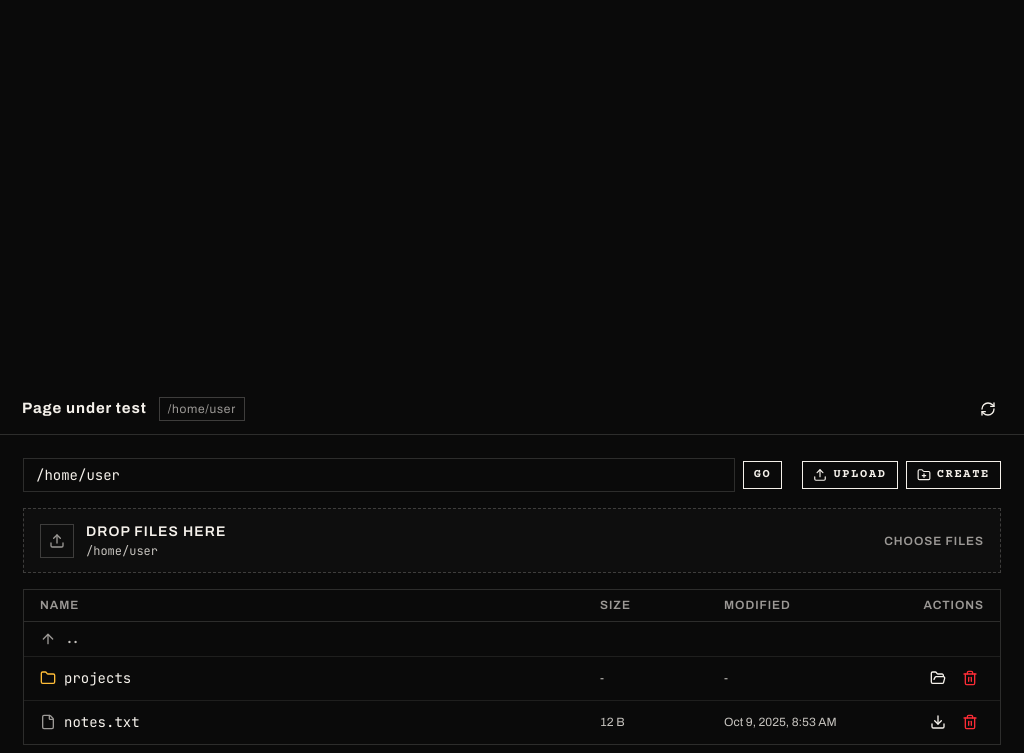
Test: files › makes a folder in the current directory and refuses path tricks
(page scrolled)
Expected: the row with test id "file-notes.txt" is shown, [24,700,1000,744]
Click the button "Create".
click(953, 475)  # box [906,461,1001,489]
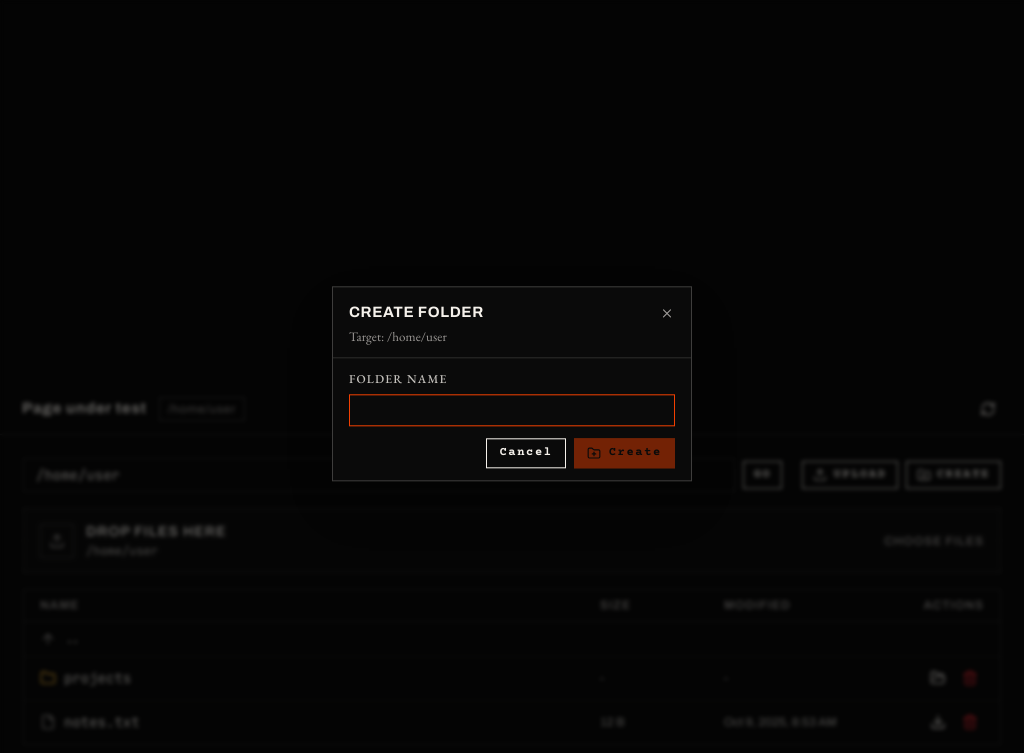
Expected: the text "Target: /home/user" is shown, [349,328,447,345]
Type "../escape" into the field labelled "Folder name".
click(512, 411); type("../escape")  # box [349,395,675,427]
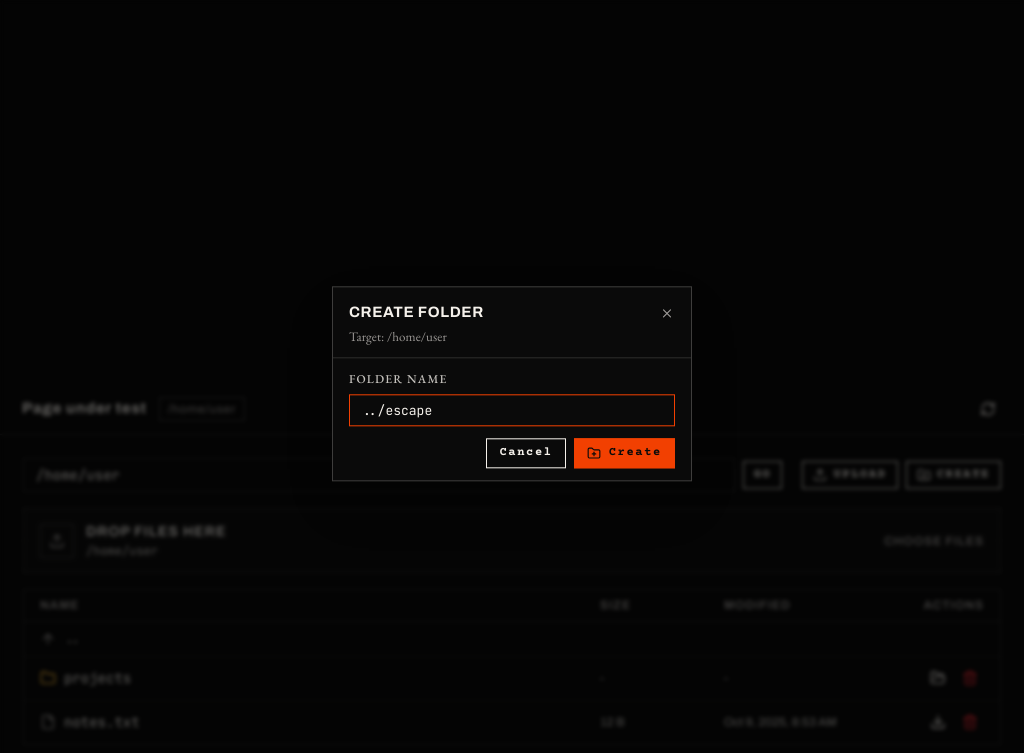
Click the button "Create".
click(624, 454)  # box [574,439,675,469]
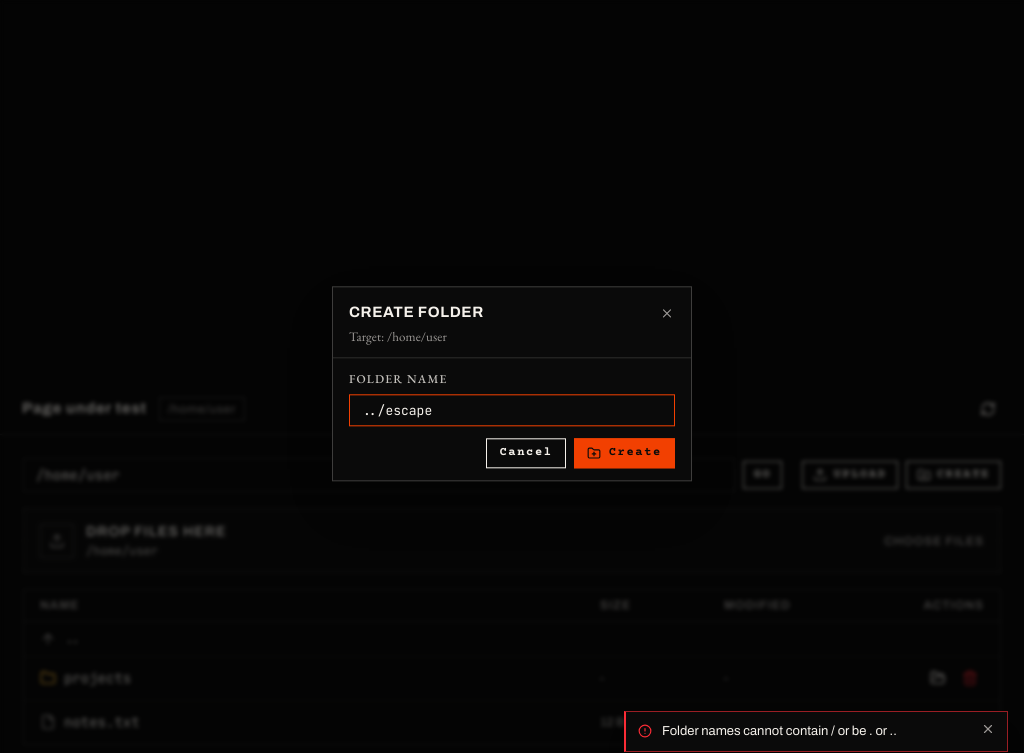
Replace the text in the field labelled "Folder name" with "drafts" at (512, 411), box [349,395,675,427]
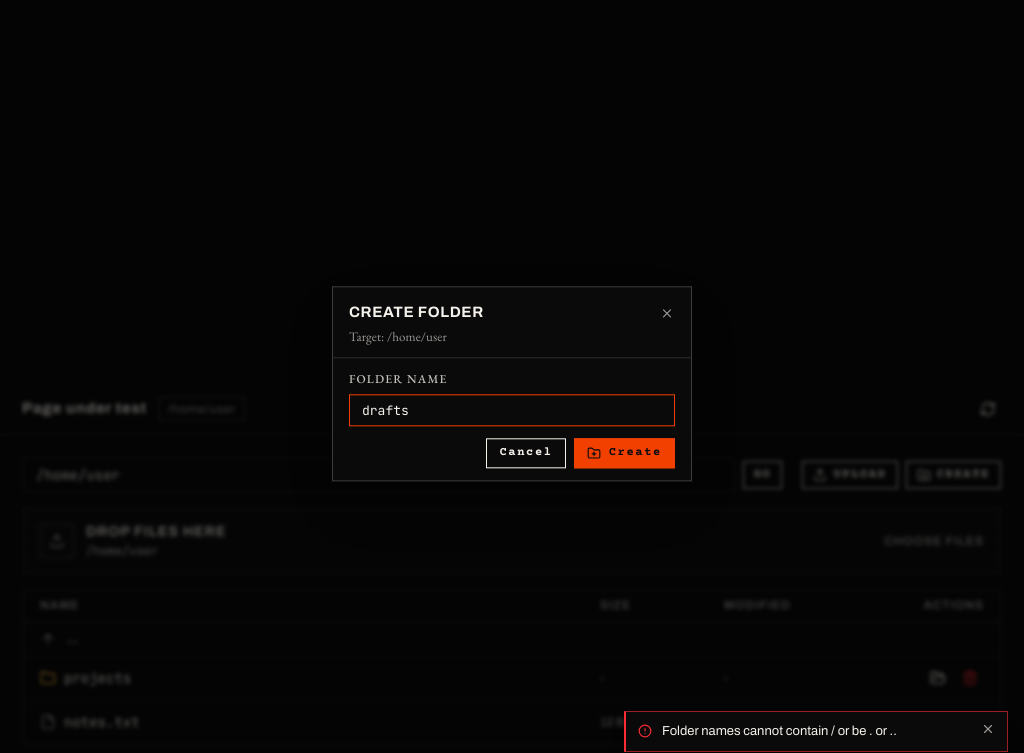
Click the button "Create".
click(624, 454)  # box [574,439,675,469]
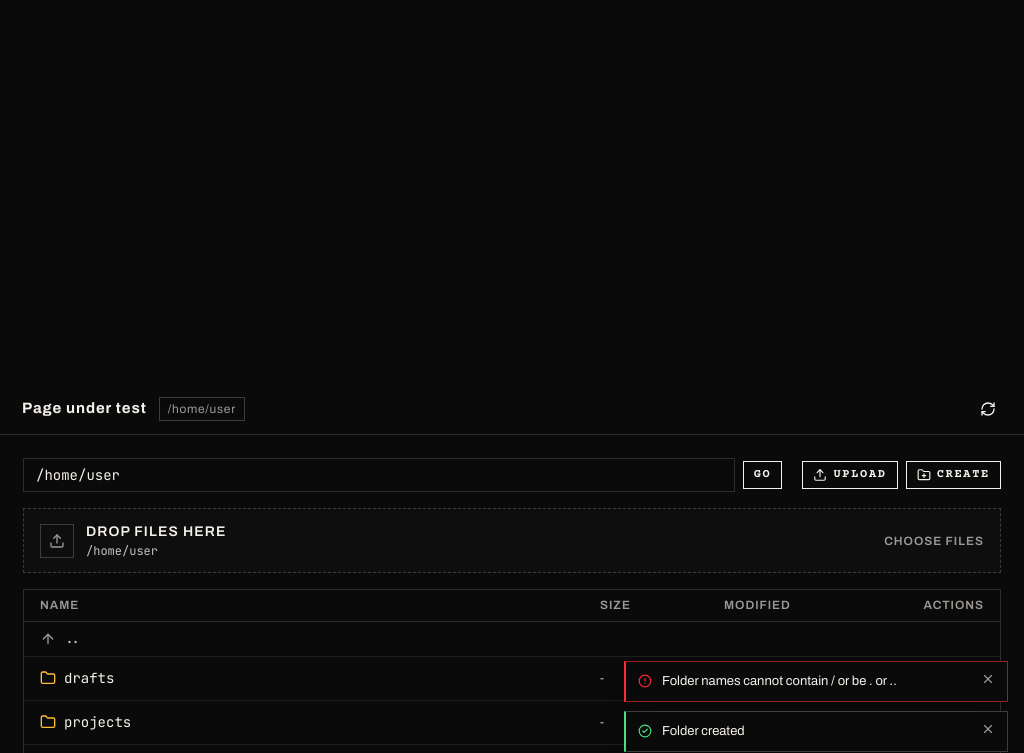
Expected: the row with test id "file-drafts" is shown, [24,656,1000,700]
Expected: the text "Folder created" is shown, [662,724,745,738]
Expected: the dialog is gone
